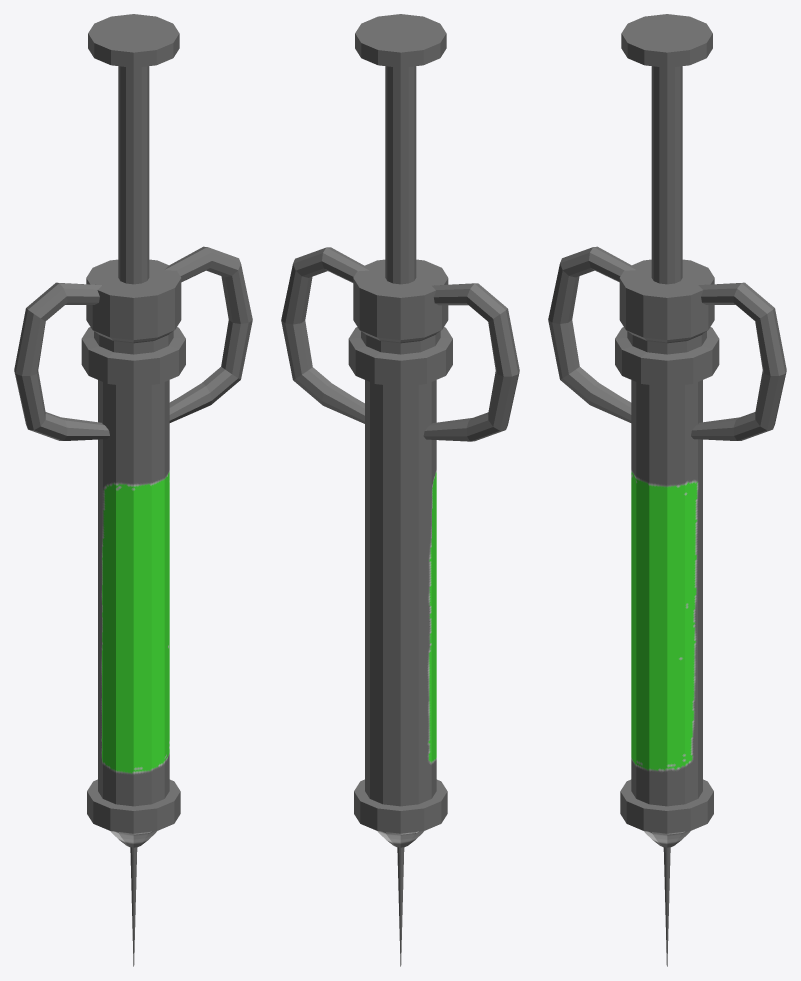
Rendered from Syringe2test2.fbx.
3 views of the same model, side by side, from view 1: azimuth 30°, elevation 25°; view 2: azimuth 150°, elevation 25°; view 3: azimuth 330°, elevation 25° (orthographic).
Parts seen in each view (by area): view 1: Cylinder; view 2: Cylinder; view 3: Cylinder.
Boxes of the visible parts, box(x1,y1,x2,y2) form: Cylinder: box(14, 14, 252, 966); Cylinder: box(281, 14, 519, 966); Cylinder: box(548, 14, 786, 966).
Size of the model in its own units: 320 by 1210 by 123.
Materials: 1 (1 with a texture image).
